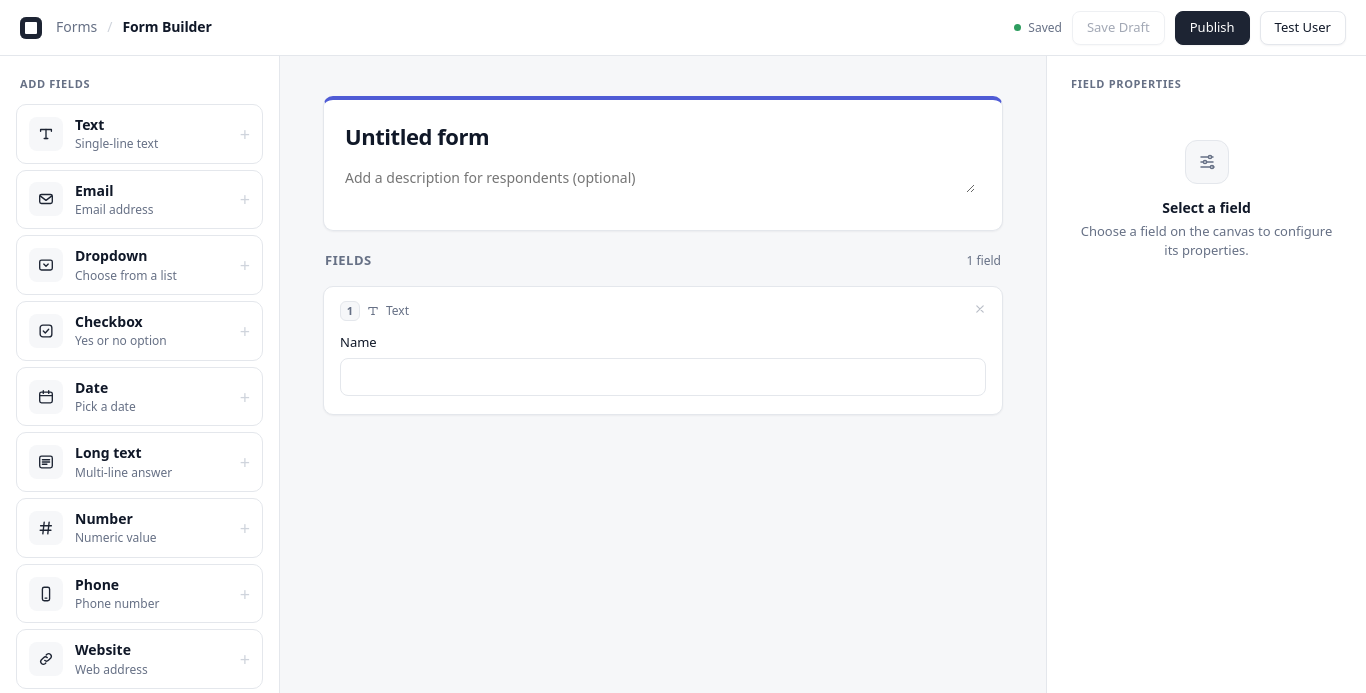
Test case: autosave debounce › turns many rapid changes into a single request
Click the button named "Select Name" at [663, 350], box [324, 287, 1002, 414]
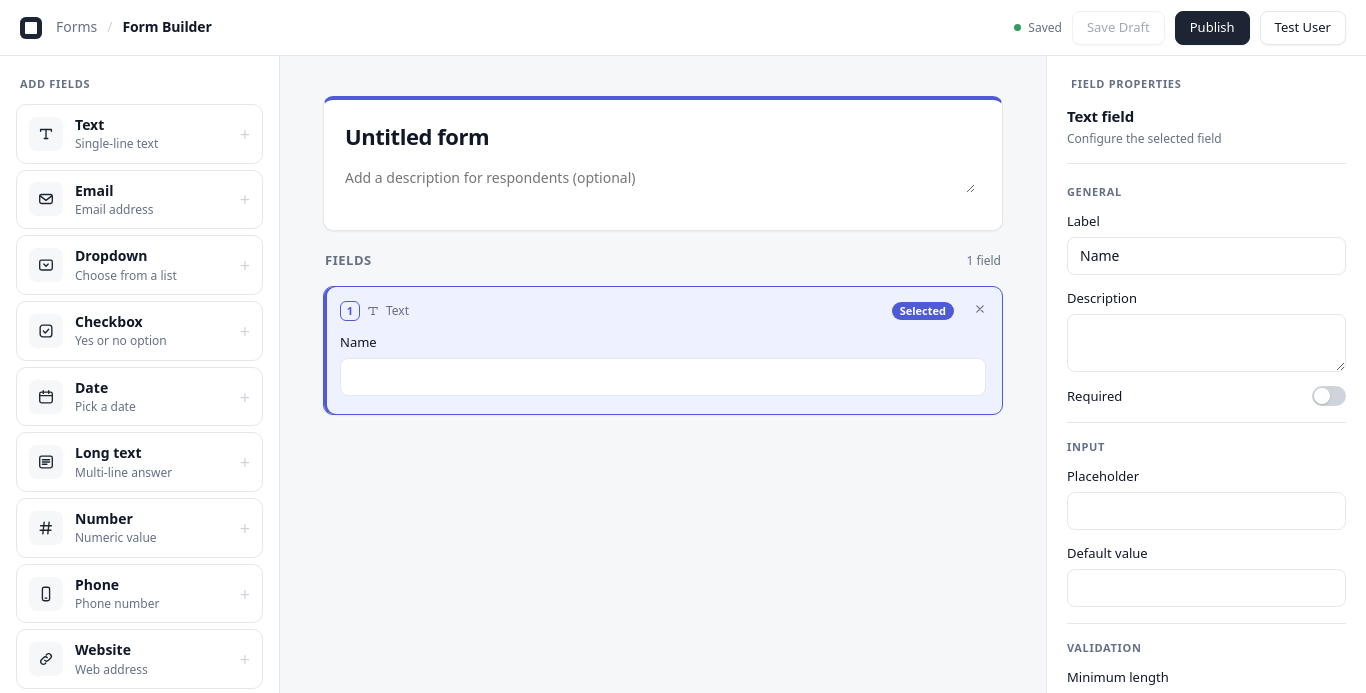
Replace the text in the field labelled "Label" with "Namea" at [1206, 256], box [1067, 237, 1346, 275]
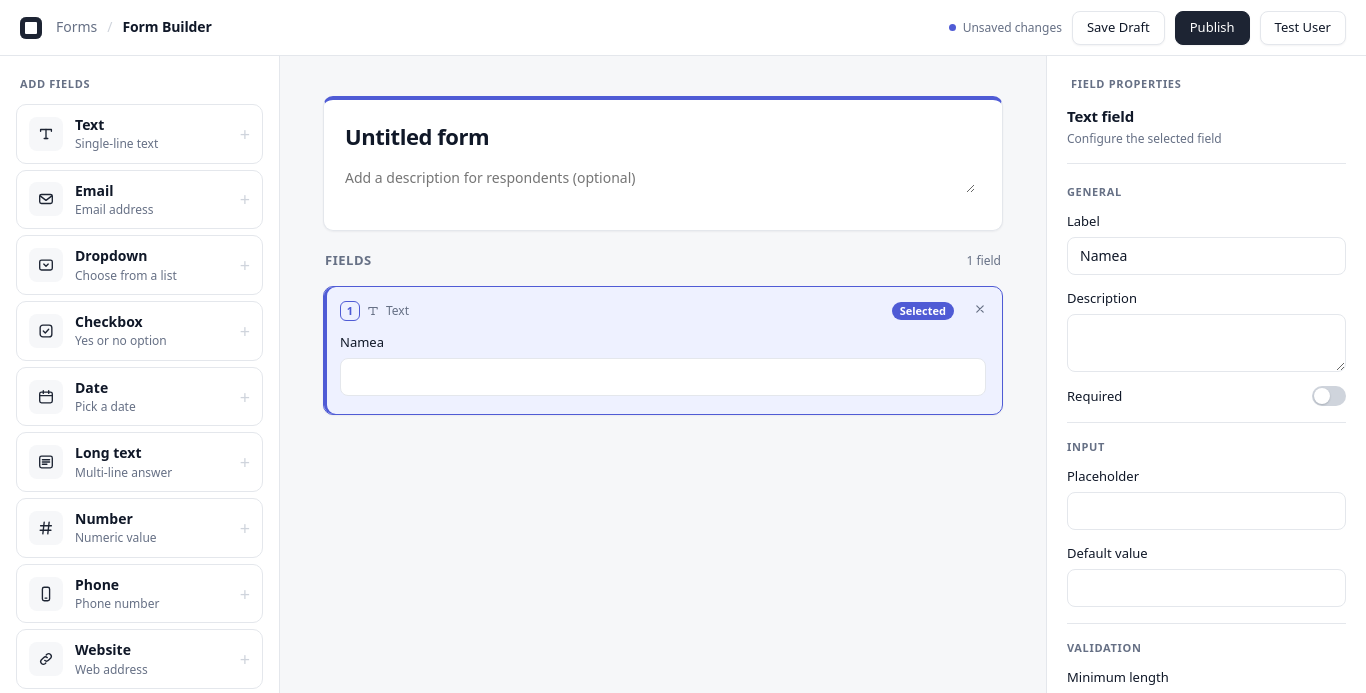
Replace the text in the field labelled "Label" with "Nameab" at [1206, 256], box [1067, 237, 1346, 275]
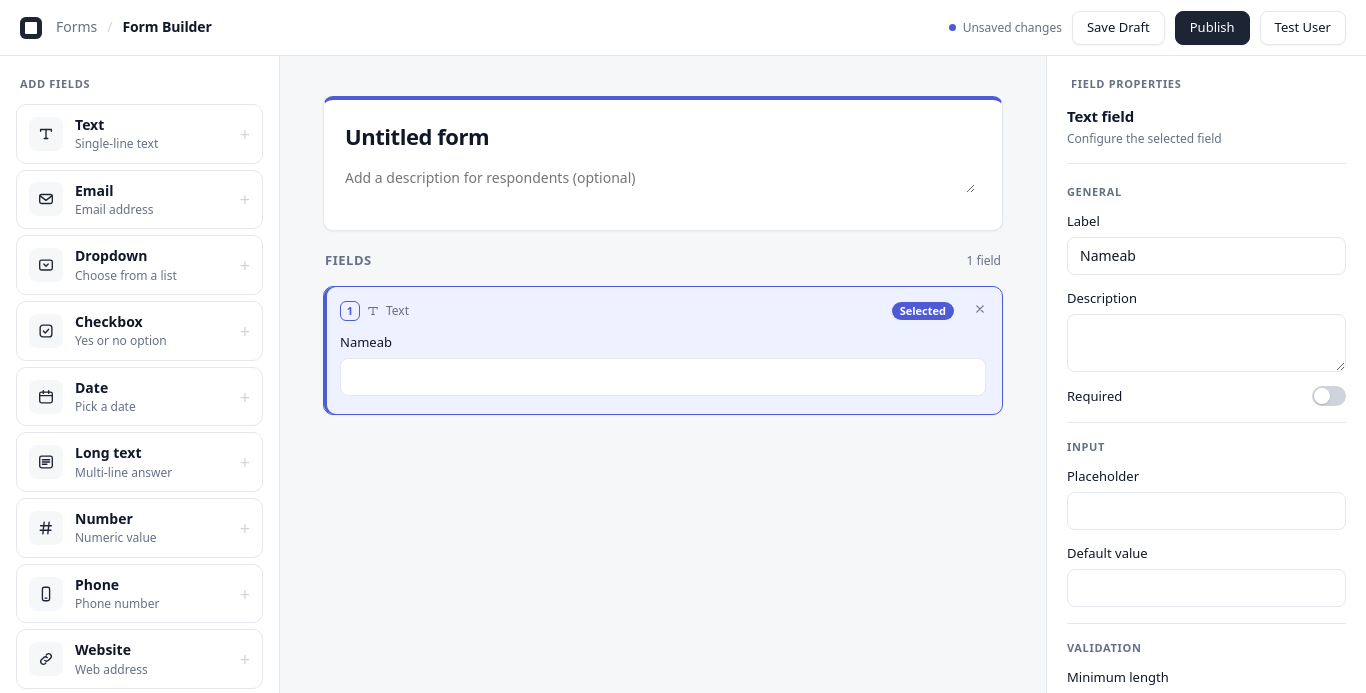
Replace the text in the field labelled "Label" with "Nameabc" at [1206, 256], box [1067, 237, 1346, 275]
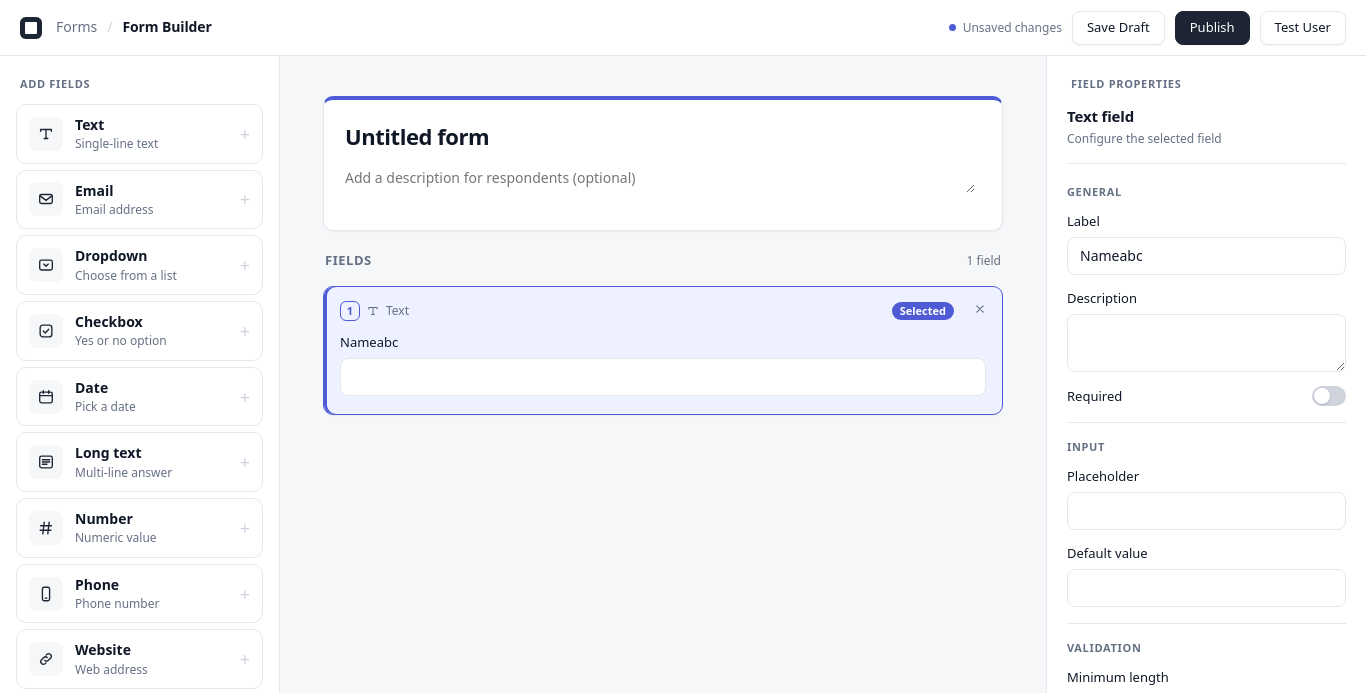
Replace the text in the field labelled "Label" with "Nameabcd" at [1206, 256], box [1067, 237, 1346, 275]
Wait 3000 ms
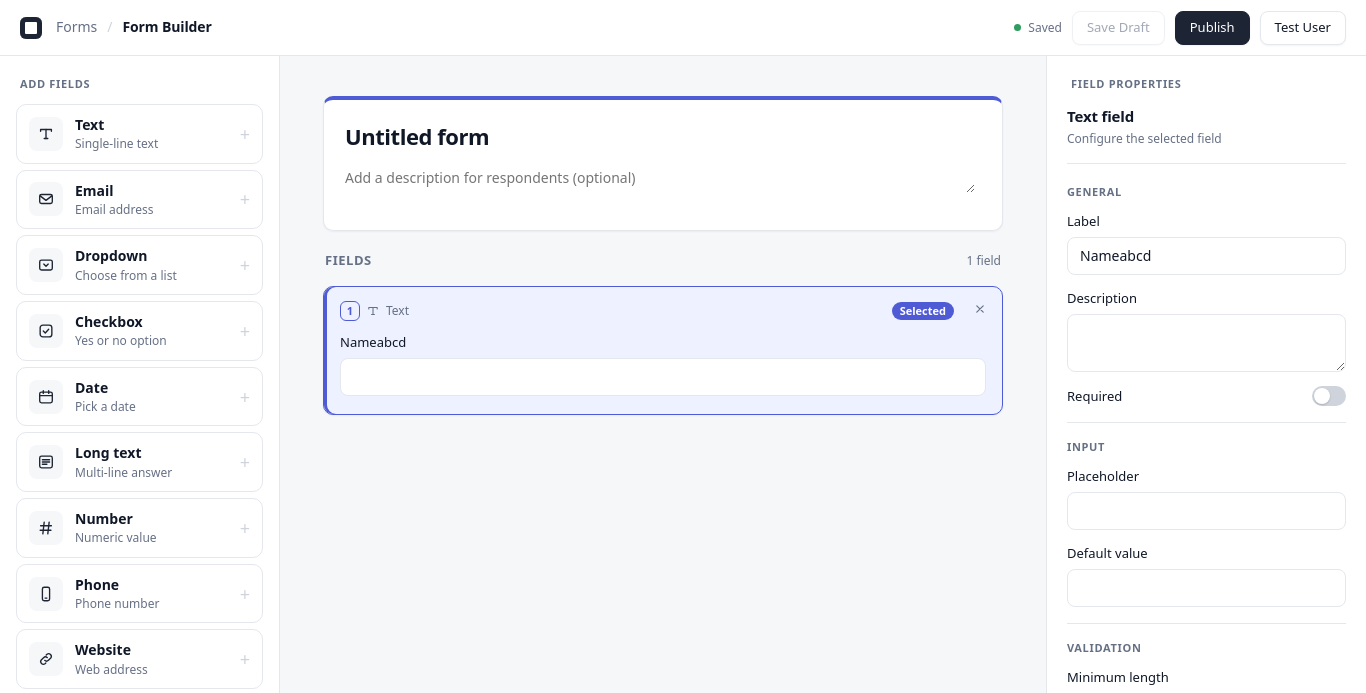
Now the label "Nameabcd" is shown, box [340, 333, 406, 351]
